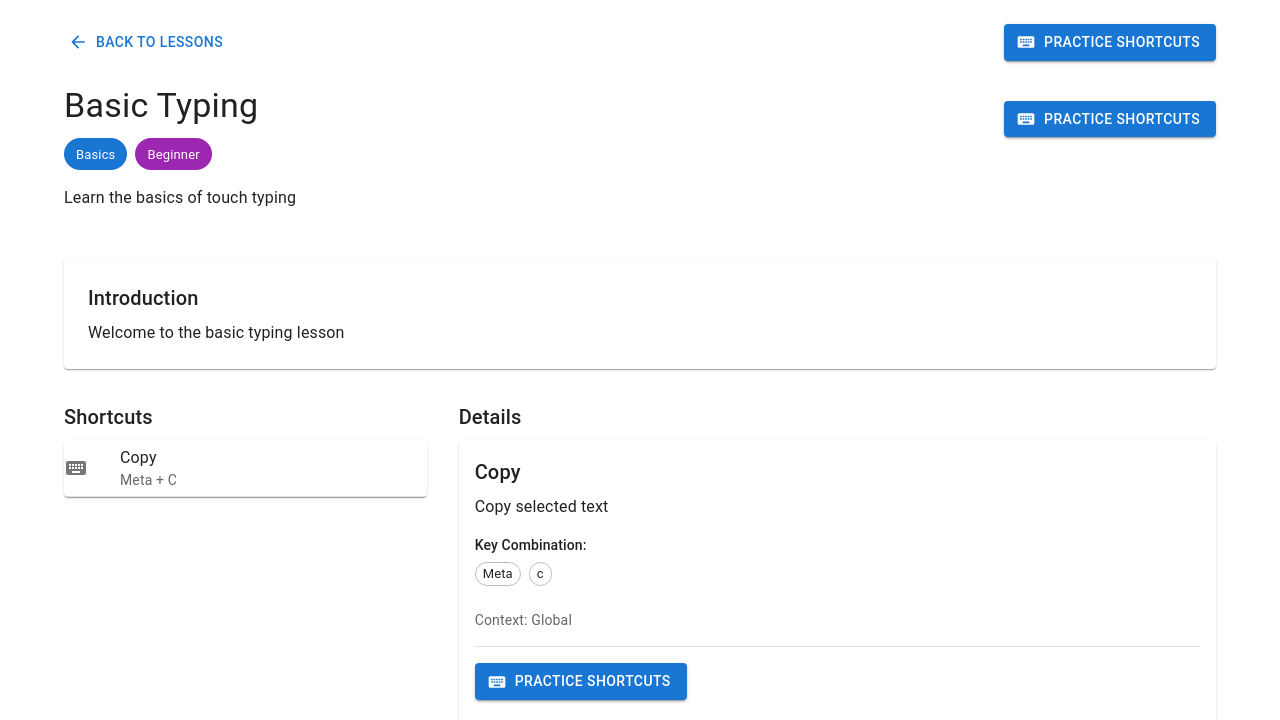
it: LessonDetail Component › should show error message for incorrect input
Click the button with test id "start-practice-button" at (1110, 42), box 1004,24 -> 1216,60
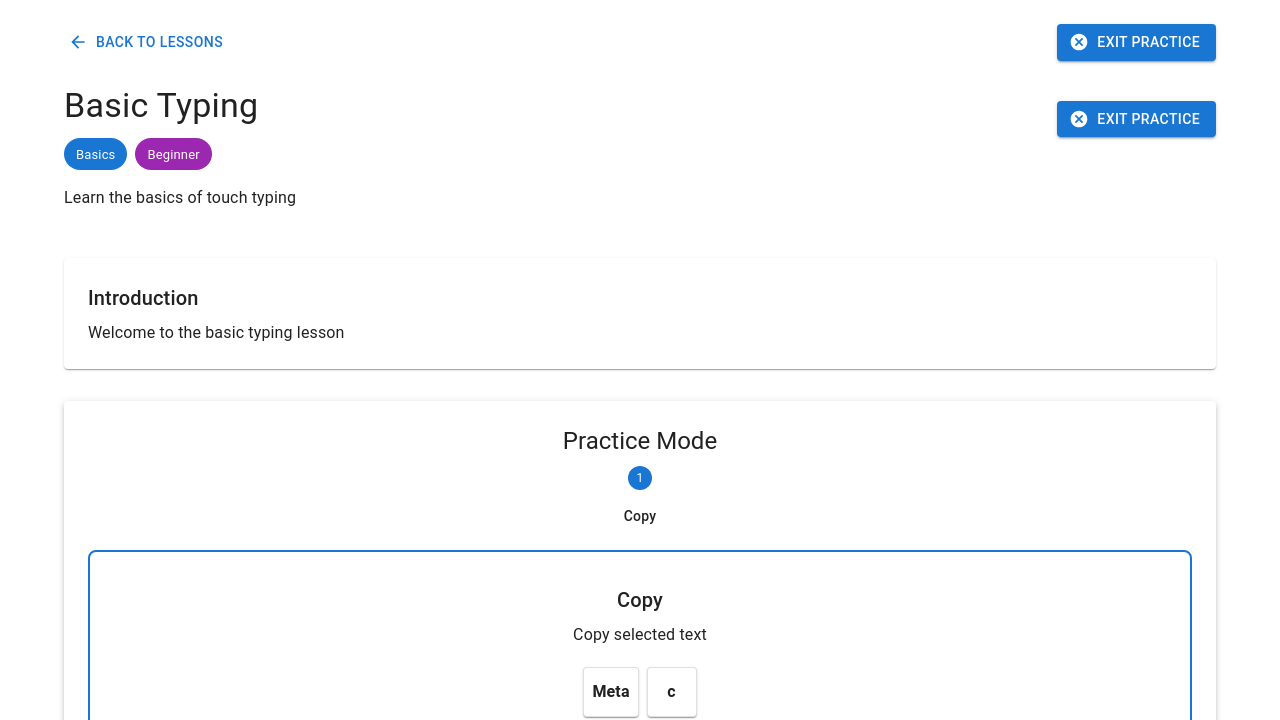
Press x
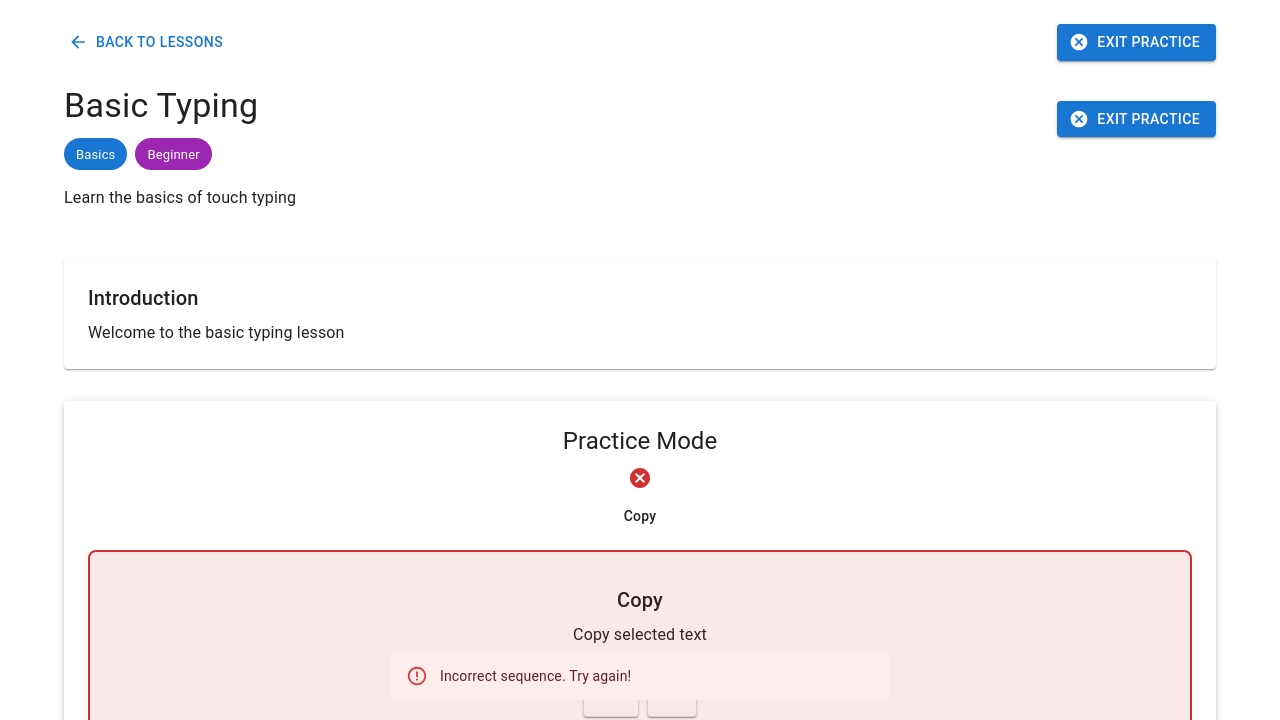
Check: the message "Incorrect sequence. Try again!" is shown, box 390,652 -> 890,700
